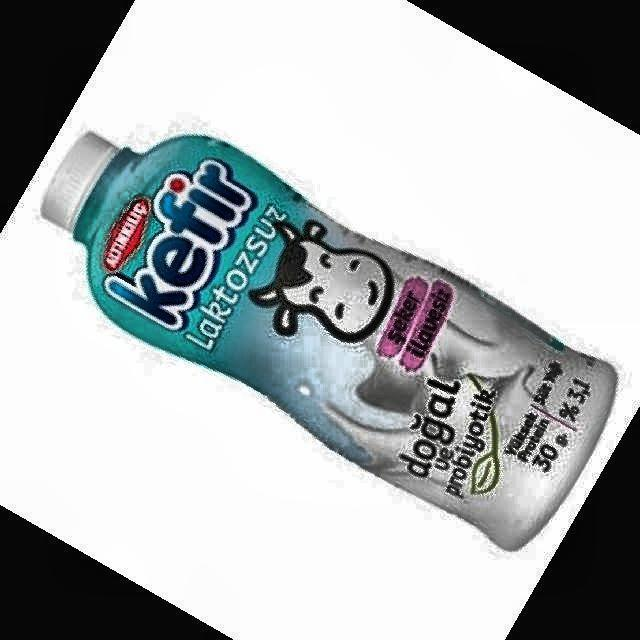plastic: (44, 134, 616, 548)
